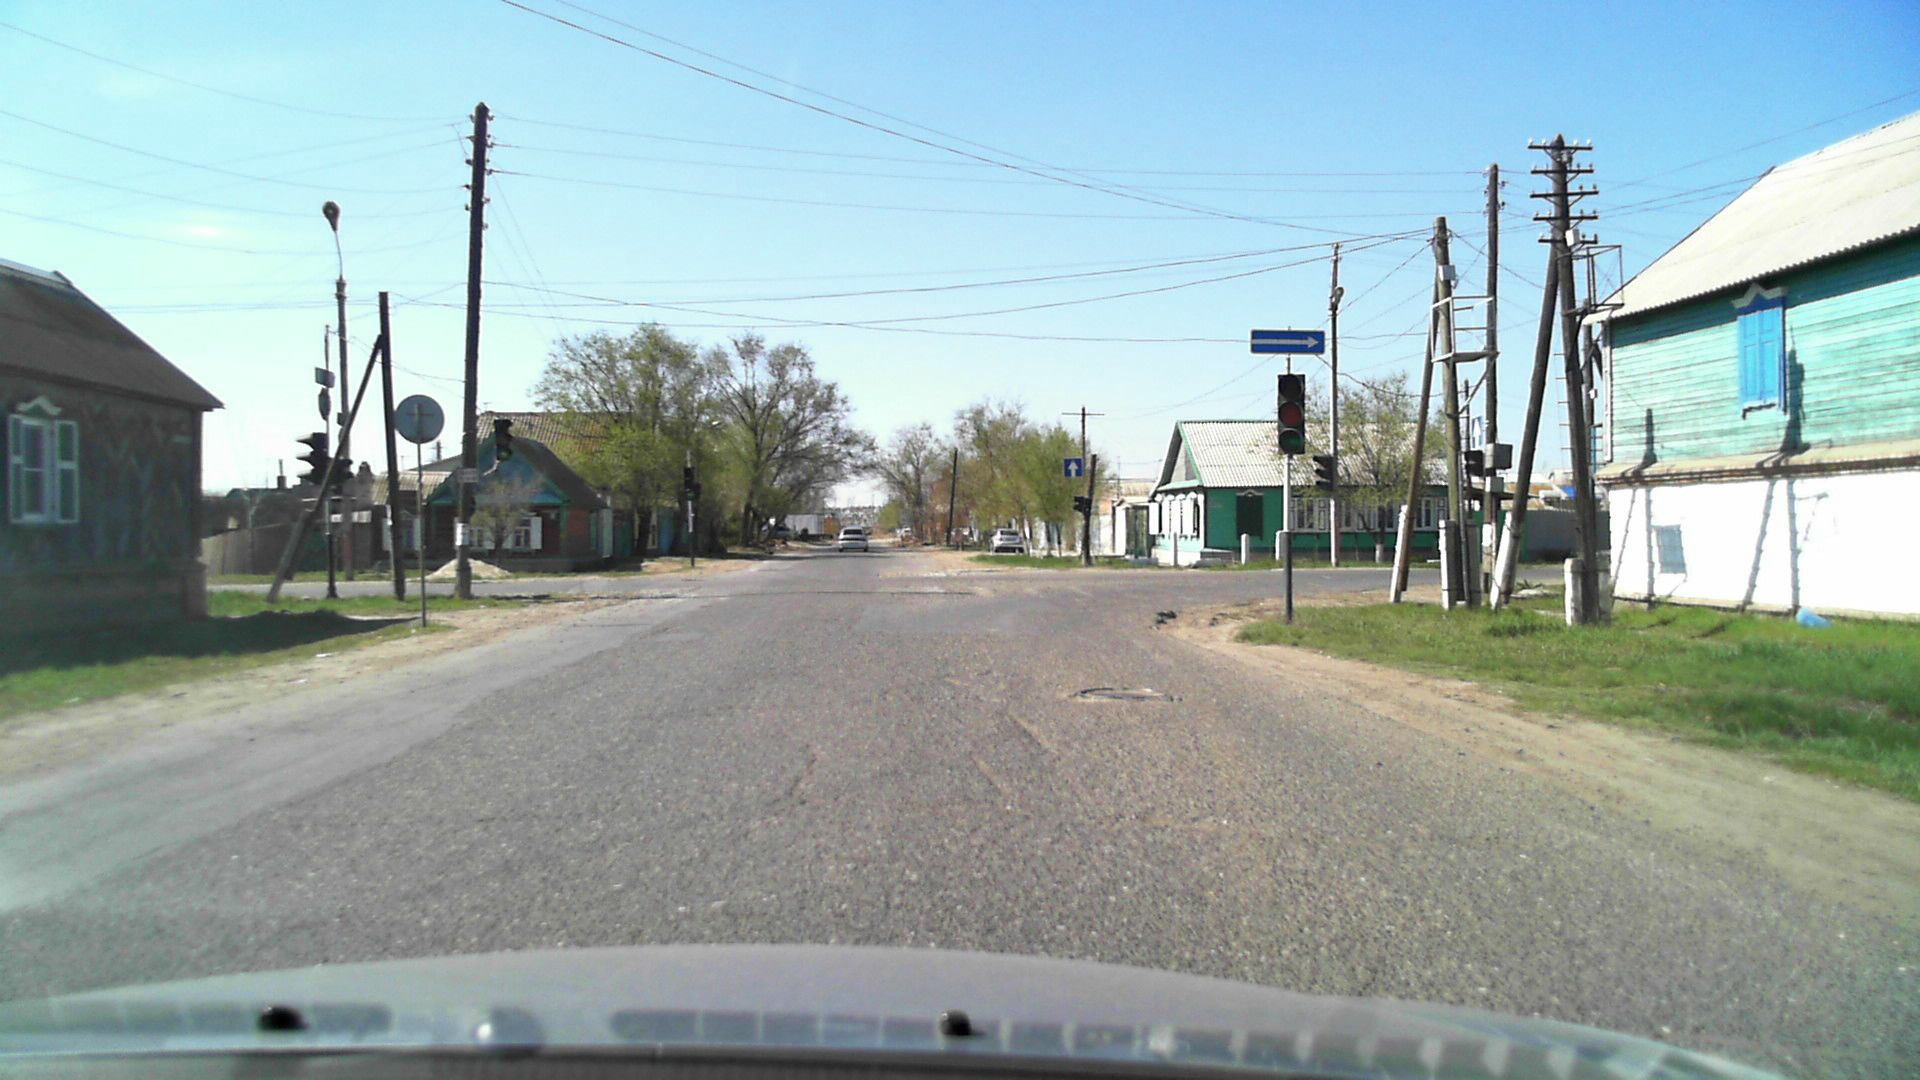One-Way Traffic: (1250, 328, 1325, 353)
